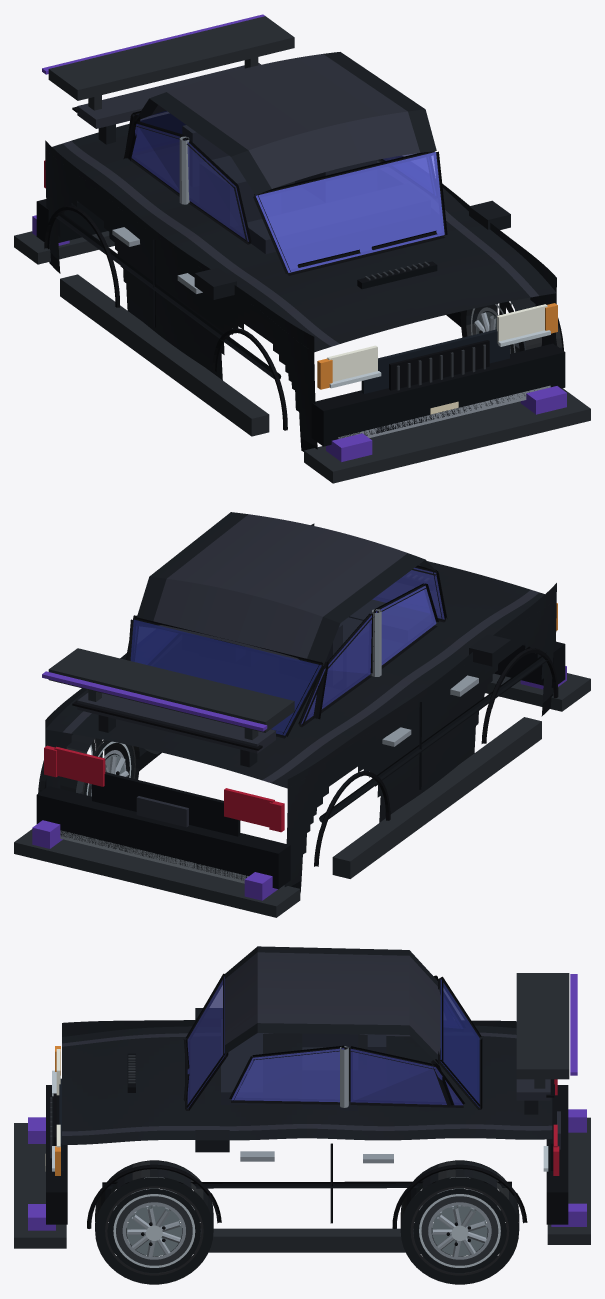
The model's file is black_maria_complete_aero.obj.
3 renders of one model, top to bottom at view 1: azimuth 30°, elevation 25°; view 2: azimuth 150°, elevation 25°; view 3: azimuth 270°, elevation 25°, orthographic. The views are drawn at different scales.
Visible parts, largest first — view 1: BODY_HOOD, ROOF, BODY_SIDE, FRONT_GLASS, BUMPERS, GT_WING, FRONT_SPLITTER, SIDE_SKIRTS, DASHBOARD, WINDOW_FRAMES, SEATS, FRONT_SIDE_GLASS (+20 smaller); view 2: ROOF, BODY_HOOD, BODY_SIDE, BUMPERS, REAR_GLASS, GT_WING, SIDE_SKIRTS, REAR_DIFFUSER, WINDOW_FRAMES, END_PANEL, REAR_WING, REAR_LIGHTS (+20 smaller); view 3: BODY_HOOD, ROOF, WHEEL_SIDE, GT_WING, WINDOW_FRAMES, SIDE_SKIRTS, FRONT_SIDE_GLASS, REAR_SIDE_GLASS, BUMPERS, FRONT_SPLITTER, WHEEL_TREAD, SEATS (+19 smaller).
Part boxes in pixels (x1,y1,x2,y2): BODY_HOOD: [46, 123, 556, 352]; ROOF: [135, 52, 436, 195]; BODY_SIDE: [45, 140, 556, 451]; FRONT_GLASS: [256, 152, 444, 272]; BUMPERS: [36, 199, 565, 446]; GT_WING: [48, 16, 294, 100]; FRONT_SPLITTER: [304, 388, 590, 483]; SIDE_SKIRTS: [60, 274, 526, 436]; DASHBOARD: [243, 184, 430, 253]; WINDOW_FRAMES: [125, 110, 447, 275]; SEATS: [200, 155, 377, 226]; FRONT_SIDE_GLASS: [185, 139, 435, 241]; ROOF: [137, 512, 436, 665]; BODY_HOOD: [45, 561, 544, 788]; BODY_SIDE: [45, 523, 556, 892]; BUMPERS: [36, 641, 565, 889]; REAR_GLASS: [130, 619, 321, 735]; GT_WING: [48, 648, 294, 732]; SIDE_SKIRTS: [76, 717, 541, 878]; REAR_DIFFUSER: [14, 829, 300, 917]; WINDOW_FRAMES: [127, 565, 447, 738]; END_PANEL: [92, 772, 240, 836]; REAR_WING: [77, 693, 275, 753]; REAR_LIGHTS: [54, 746, 274, 827]; BODY_HOOD: [62, 1025, 552, 1144]; ROOF: [225, 946, 440, 1066]; WHEEL_SIDE: [95, 1160, 518, 1284]; GT_WING: [516, 973, 569, 1079]; WINDOW_FRAMES: [185, 973, 482, 1110]; SIDE_SKIRTS: [136, 1228, 481, 1252]; FRONT_SIDE_GLASS: [231, 1048, 344, 1102]; REAR_SIDE_GLASS: [350, 1049, 463, 1105]; BUMPERS: [46, 1085, 568, 1224]; FRONT_SPLITTER: [14, 1123, 66, 1248]; WHEEL_TREAD: [95, 1161, 519, 1273]; SEATS: [302, 1033, 358, 1111].
Size of the model in its own units: 2.06 by 1.68 by 3.72.
